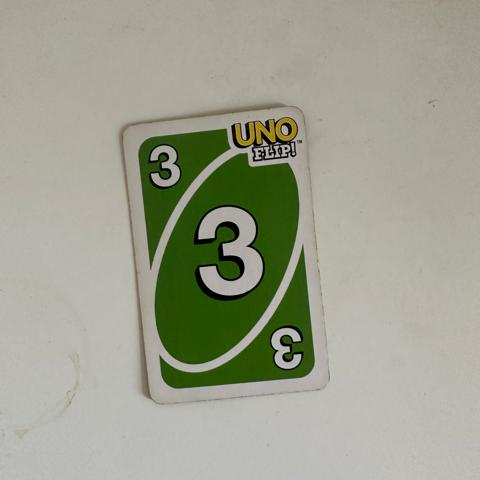lgreen-3: (135, 133, 190, 195)
